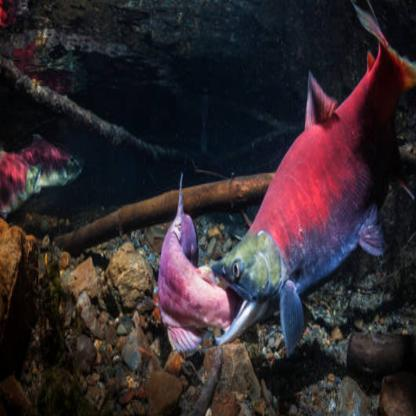sockeye: (232, 38, 406, 325), (154, 174, 228, 338), (0, 138, 79, 194)
